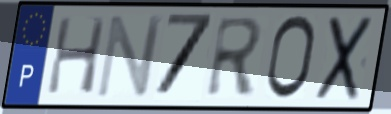7: (156, 11, 217, 103)
H: (44, 15, 109, 97)
N: (93, 13, 166, 100)
O: (263, 13, 318, 103)
R: (203, 15, 267, 100)
X: (312, 13, 377, 103)
